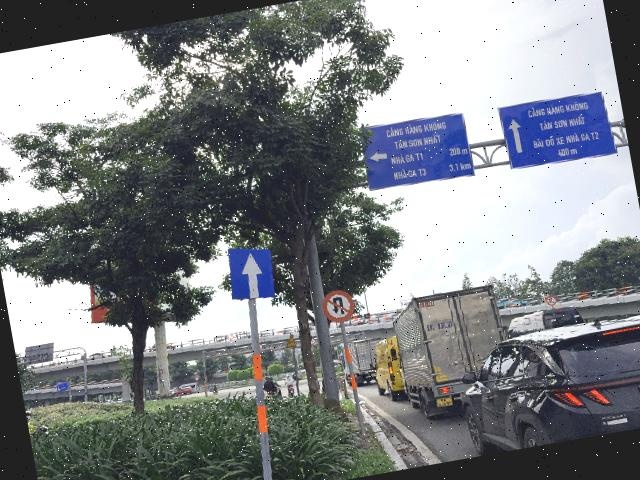cam-quay-dau-xe: (320, 286, 357, 324)
duong-mot-chieu: (222, 241, 278, 304)
